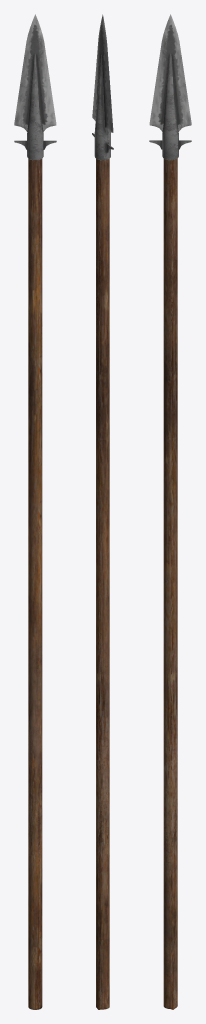
The model's file is Spear_03.fbx.
3 views of the same model, side by side, from view 1: azimuth 90°, elevation 25°; view 2: azimuth 210°, elevation 25°; view 3: azimuth 270°, elevation 25° (orthographic).
Parts seen in each view (by area): view 1: Spear_03_LOD0; view 2: Spear_03_LOD0; view 3: Spear_03_LOD0.
Part boxes in pixels (bbox=[...]): Spear_03_LOD0: bbox=[14, 14, 56, 1009]; Spear_03_LOD0: bbox=[92, 14, 113, 1009]; Spear_03_LOD0: bbox=[149, 14, 191, 1009].
Size of what is drawn, in the model's own units: 2.94 by 200 by 7.73.
